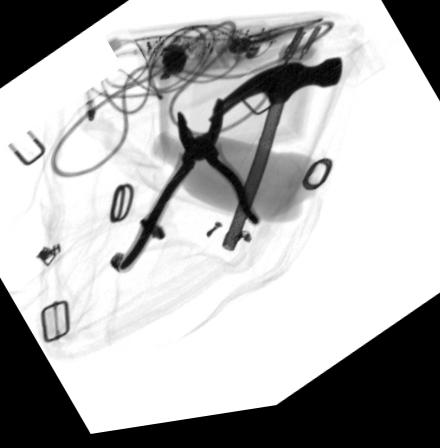Hammer: (208, 67, 341, 258)
Pliers: (117, 105, 261, 278)
